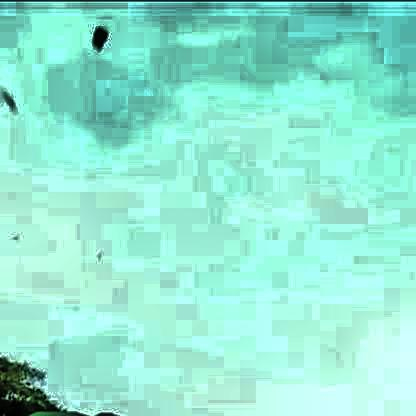golfball: (94, 251, 104, 258)
